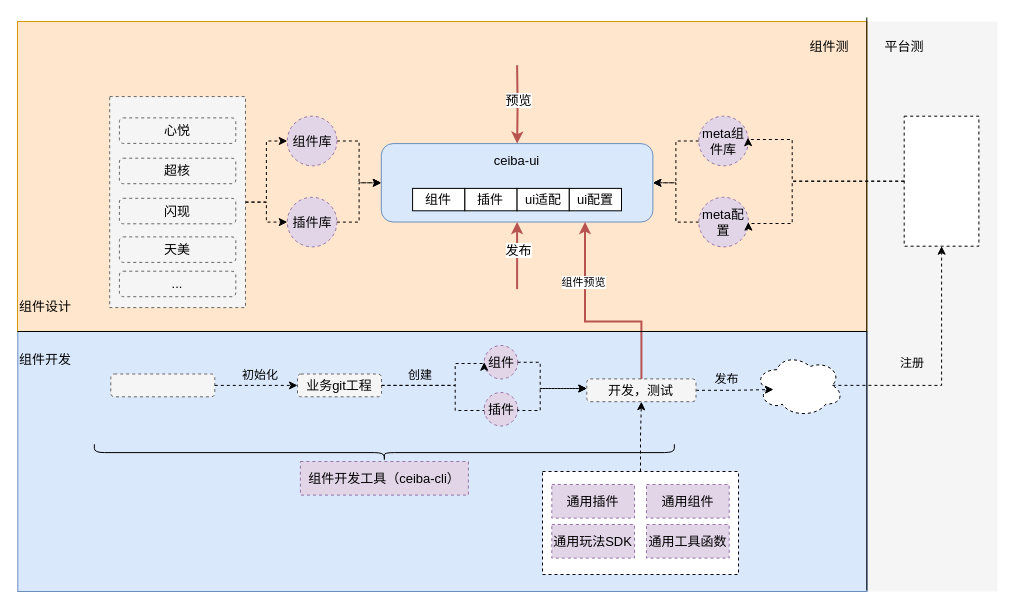
Image size: 1015x609. Some labels were removed from this diagram. Here are the shapes that lost their labels. From the top down, the box of each, then its label:
(903, 115, 979, 246): 平台
(110, 373, 215, 397): 新业务接入
(754, 353, 844, 417): npm仓库
